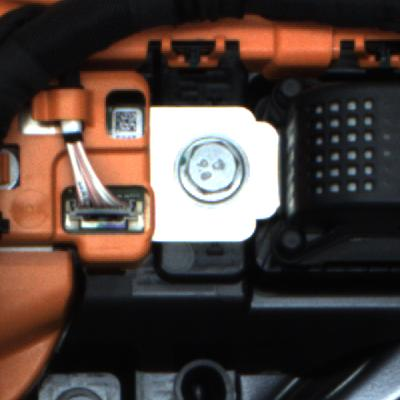nut_b: (174, 132, 249, 203)
